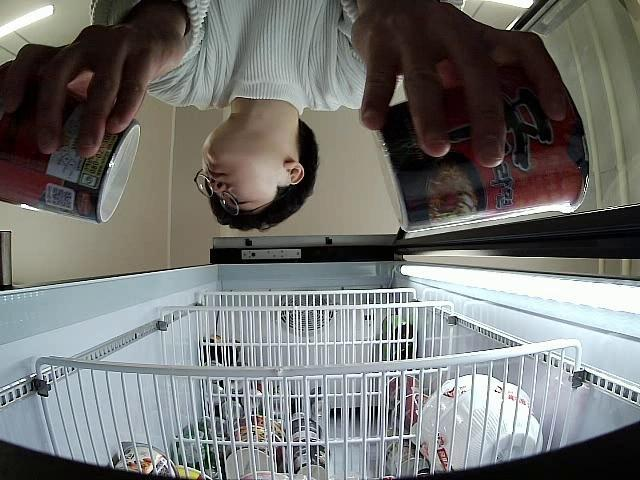02_shinRamen_S: (372, 86, 590, 233), (0, 57, 142, 224)
